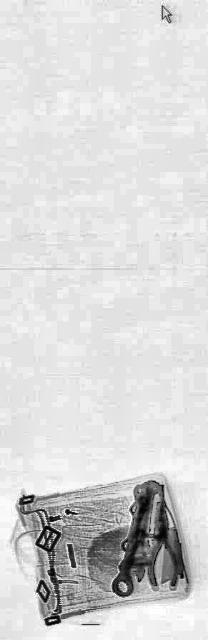Pliers: (146, 498, 178, 592)
Wrench: (111, 454, 159, 616)
